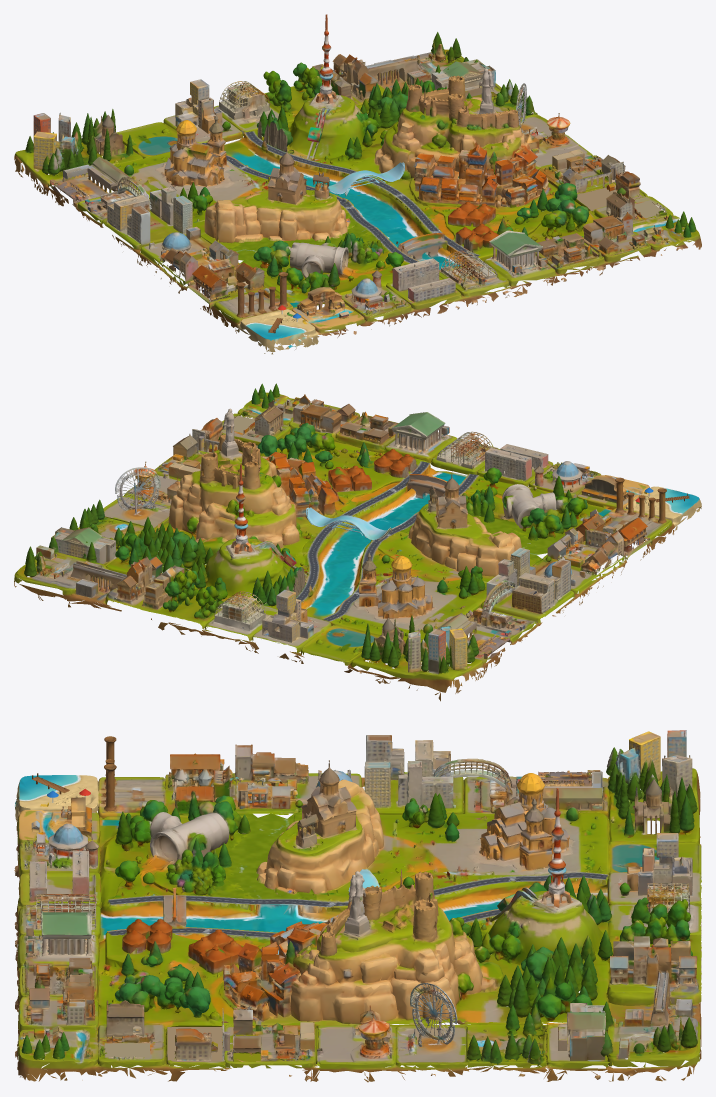
The model's file is m_tb_city.glb.
3 renders of one model, top to bottom at view 1: azimuth 30°, elevation 25°; view 2: azimuth 150°, elevation 25°; view 3: azimuth 270°, elevation 25°, orthographic. The views are drawn at different scales.
Parts seen in each view (by area): view 1: city; view 2: city; view 3: city.
Part boxes in pixels (x1,y1,x2,y2): city: [14, 14, 701, 354]; city: [14, 383, 701, 701]; city: [14, 730, 701, 1082].
Bounding box in the file's own units: 9.11 × 2.67 × 9.12.
Materials: 1 (1 with a texture image).
